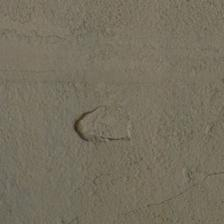Crack: (34, 51, 101, 95)
